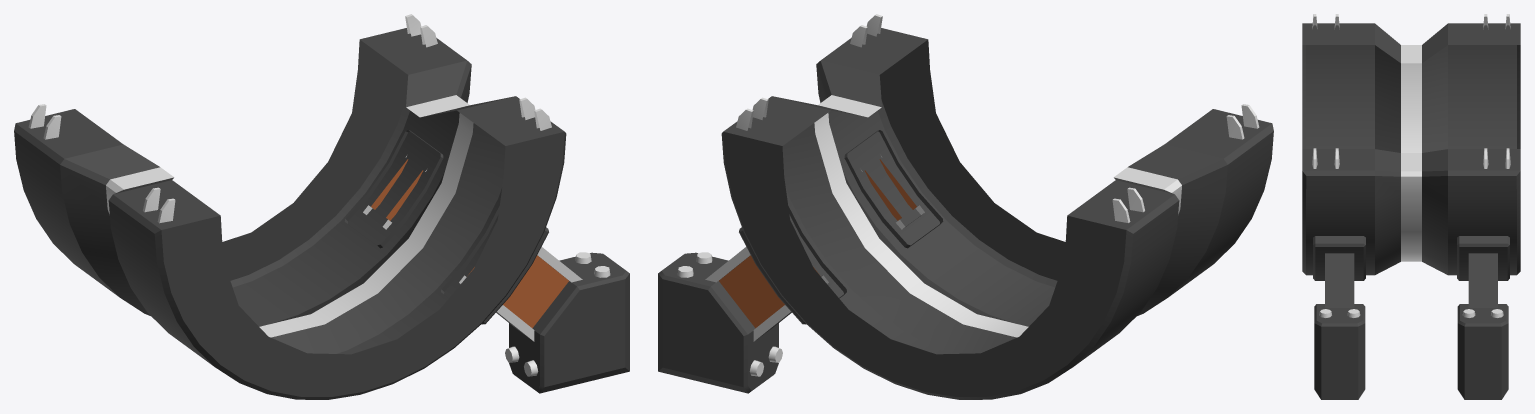
Rendered from env_building_tanksupport_lod1.fbx.
The picture shows the model from 3 angles, left to right: view 1: azimuth 30°, elevation 25°; view 2: azimuth 150°, elevation 25°; view 3: azimuth 270°, elevation 25°; orthographic projection. The views are drawn at different scales.
Parts seen in each view (by area): view 1: Mesh3; view 2: Mesh3; view 3: Mesh3.
Boxes of the visible parts, x1,y1,x2,y2 form: Mesh3: (14, 14, 629, 399); Mesh3: (658, 14, 1273, 399); Mesh3: (1302, 14, 1520, 399).
Bounding box in the file's own units: 325 × 184 × 169.
